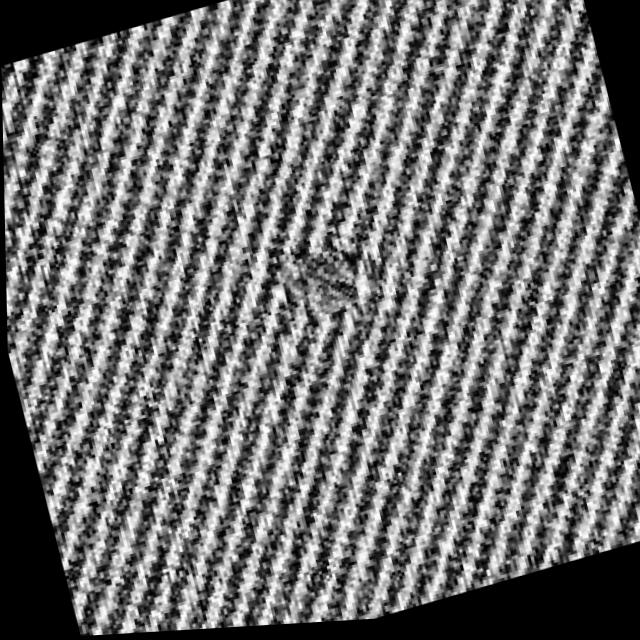Hole: (238, 179, 400, 379)
